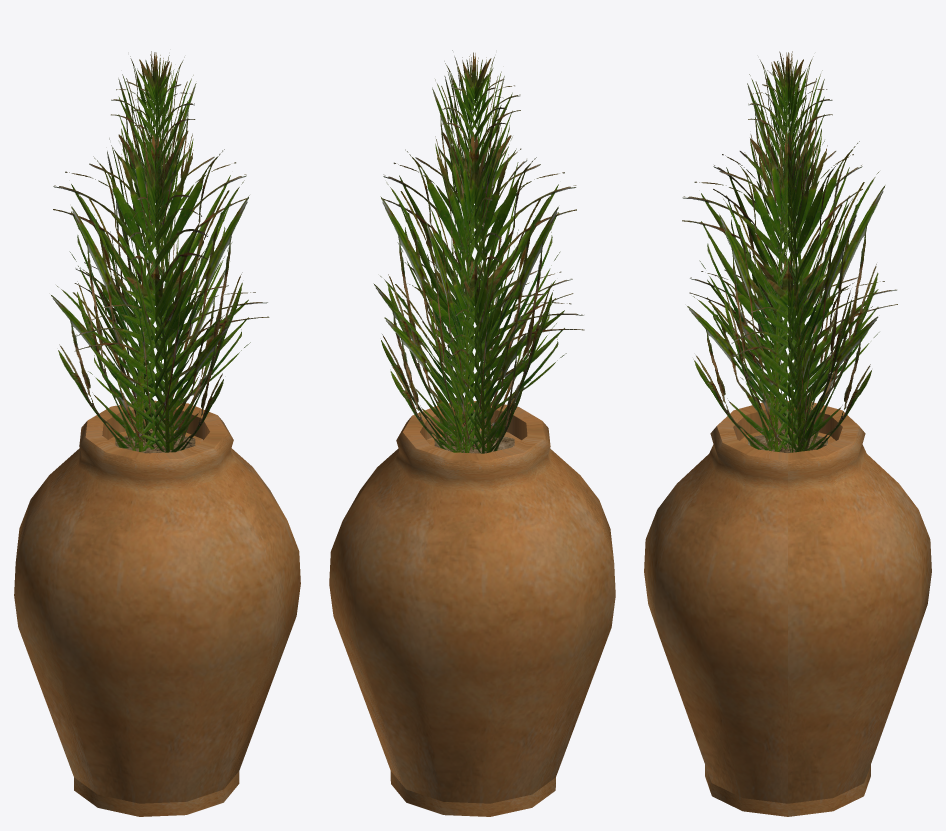
The model's file is Model_Plant_Potted_04.fbx.
3 views of the same model, side by side, from view 1: azimuth 30°, elevation 25°; view 2: azimuth 150°, elevation 25°; view 3: azimuth 270°, elevation 25° (orthographic).
Visible parts, largest first — view 1: Potted_Plant_04; view 2: Potted_Plant_04; view 3: Potted_Plant_04.
Part boxes in pixels (bbox=[...]): Potted_Plant_04: bbox=[14, 51, 300, 816]; Potted_Plant_04: bbox=[329, 50, 615, 816]; Potted_Plant_04: bbox=[644, 51, 931, 816].
Bounding box in the file's own units: 61.16 × 177 × 61.8.
